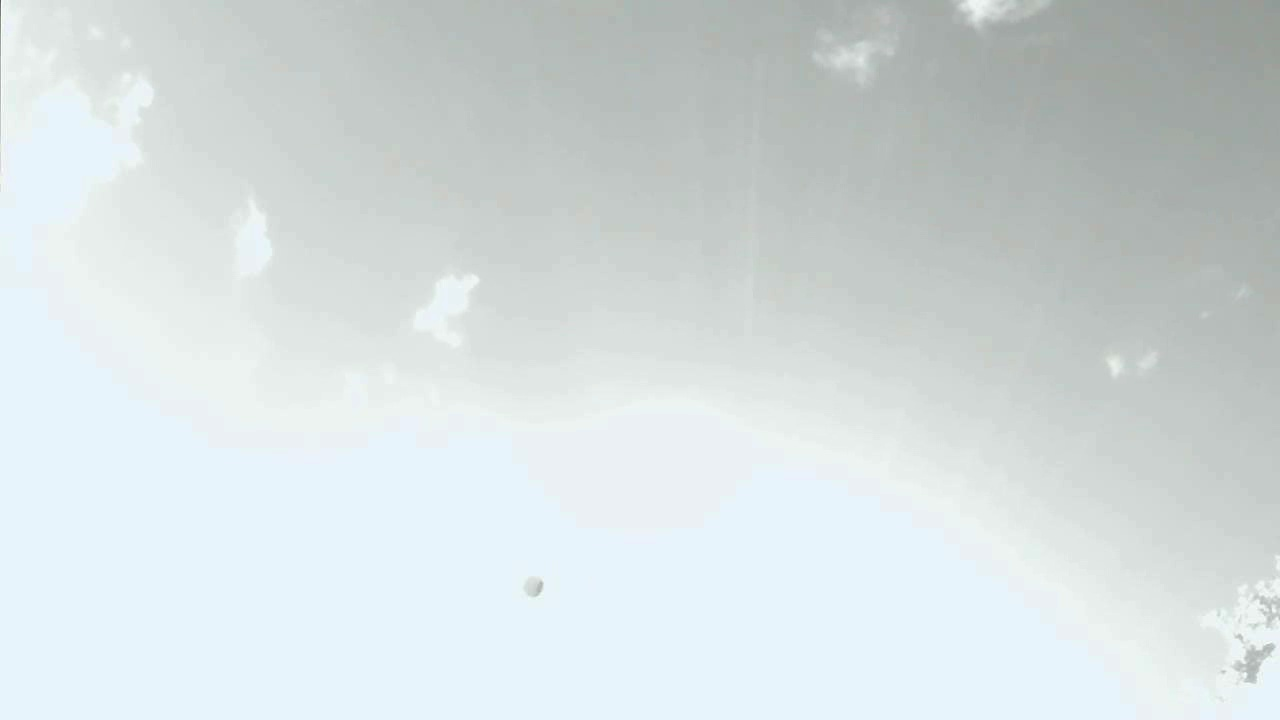Football-Spotter: (525, 576, 543, 596)
